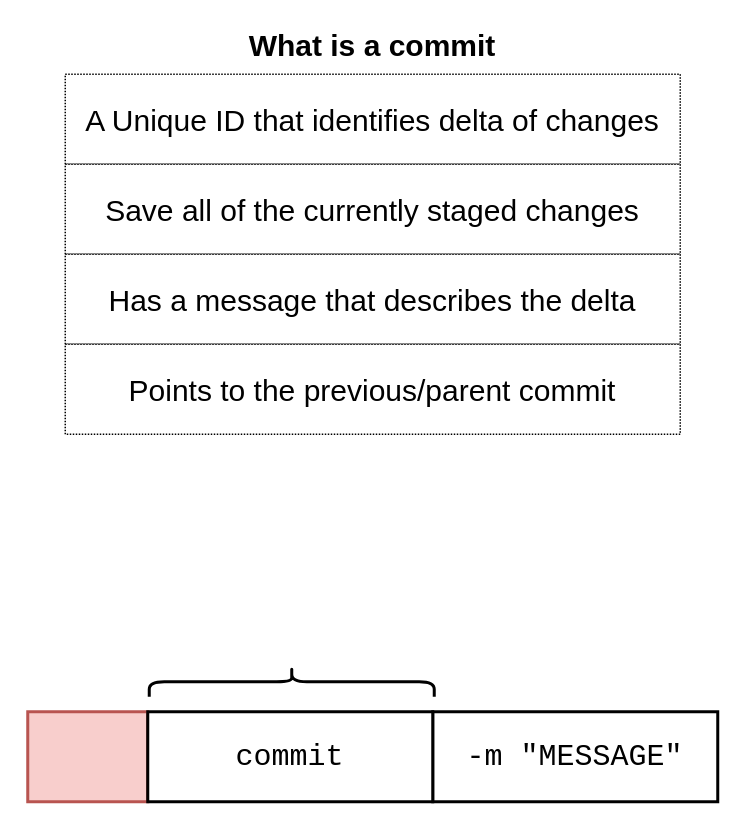
Some shapes in this 744 by 828 pixel diagram are drawn without their labels. Here are the shapes that lost their labels. From the top down, the box of each, then its label:
(147, 664, 435, 698): git sub command
(26, 710, 148, 802): git
